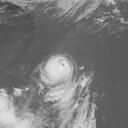cyclone: (40, 55, 75, 87)
